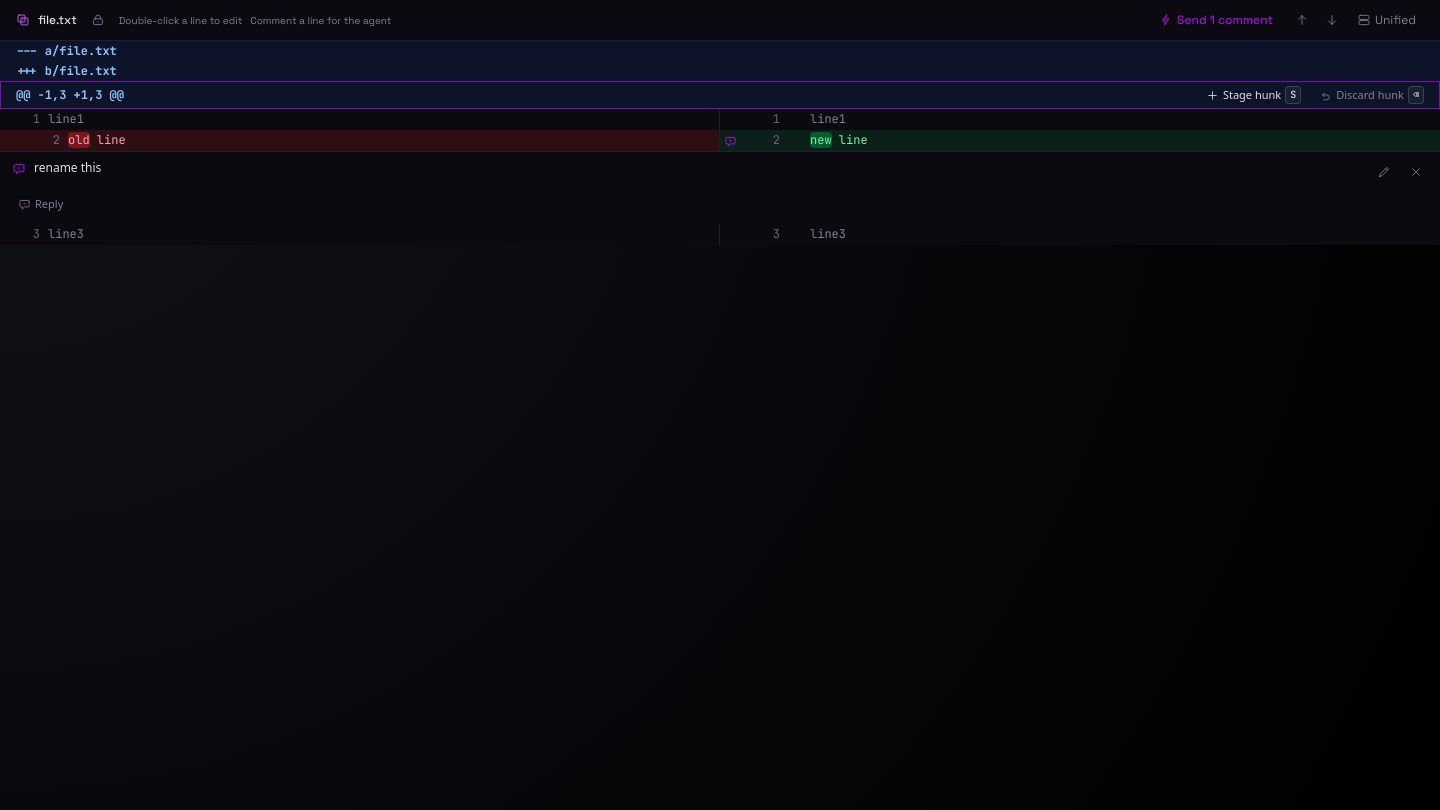
Test case: DiffViewer lock › shows the file in a real editor with the added line still marked
Click the button with test id "diff-lock-toggle" at (98, 20), box [85,8,111,32]
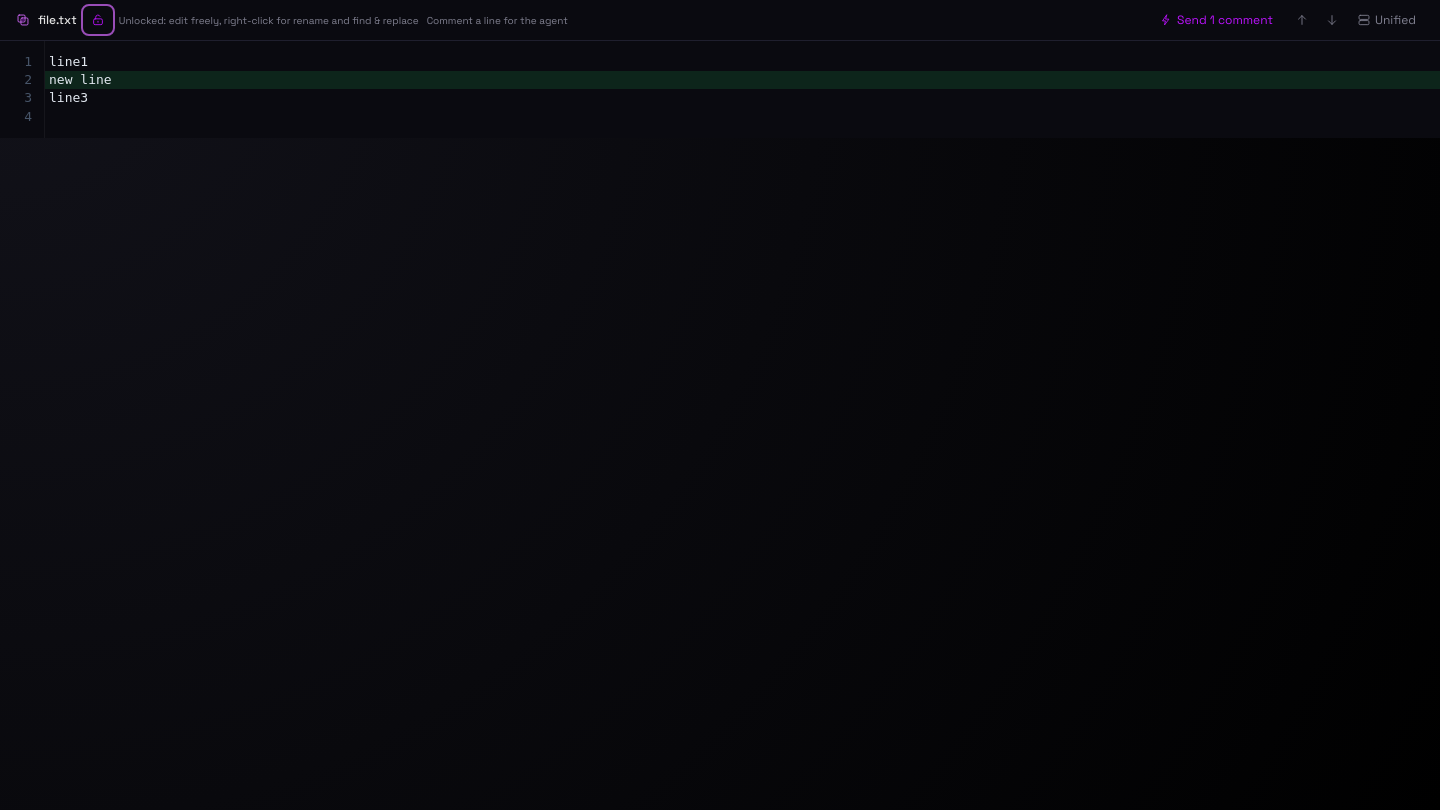
Check: the field with class "cm-content" shows "new line", box [45,54,1439,105]
Check: the number of text boxes with class "cm-diff-changed-line" is 1, box [45,71,1439,89]
Check: the text box with class "cm-diff-changed-line" reads "new line", box [49,72,112,87]
